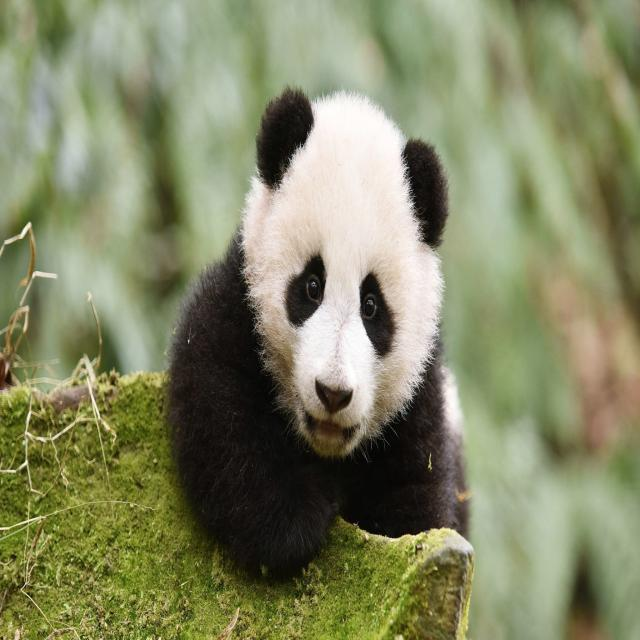panda: (168, 88, 470, 570)
